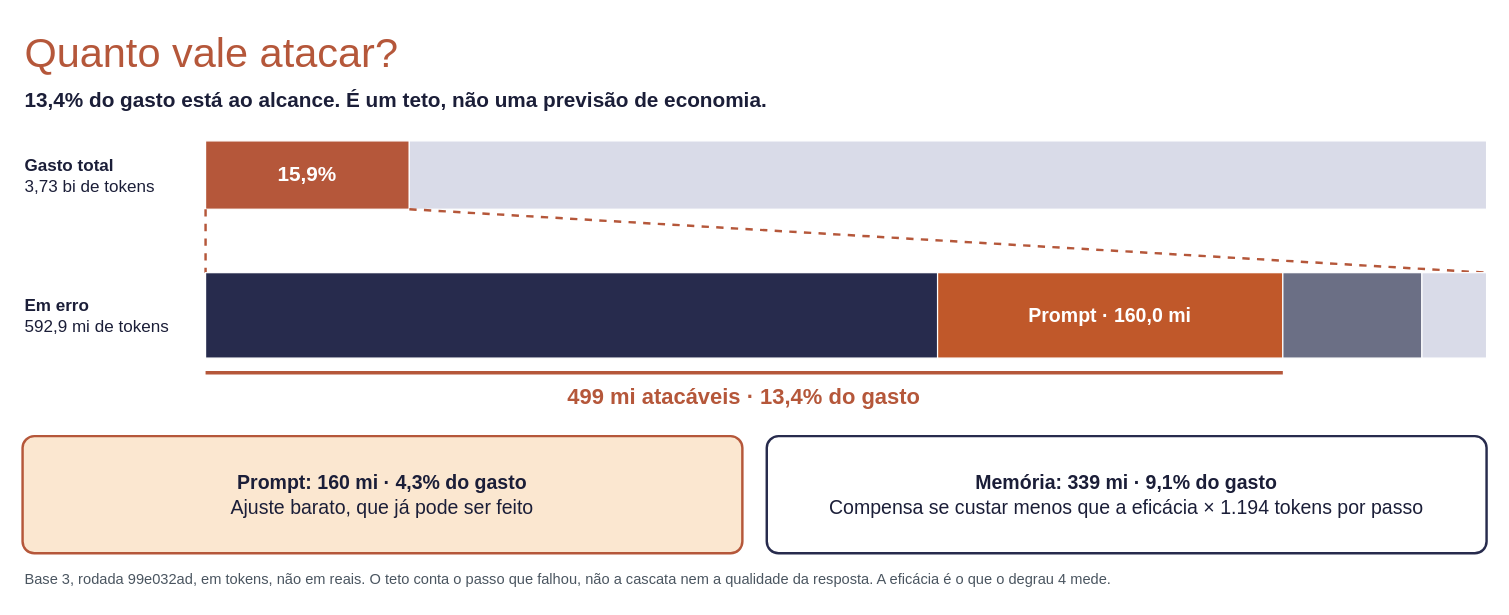
Image size: 1509x615. Some labels were removed from this diagram. The shapes that lost their labels are listed below. From the top down, each one's box as (x1, y1, x2, y2) in pixels, then its label:
(204, 271, 938, 358): Memória · 339,0 mi
(1282, 271, 1422, 358): Infra · 64,2
